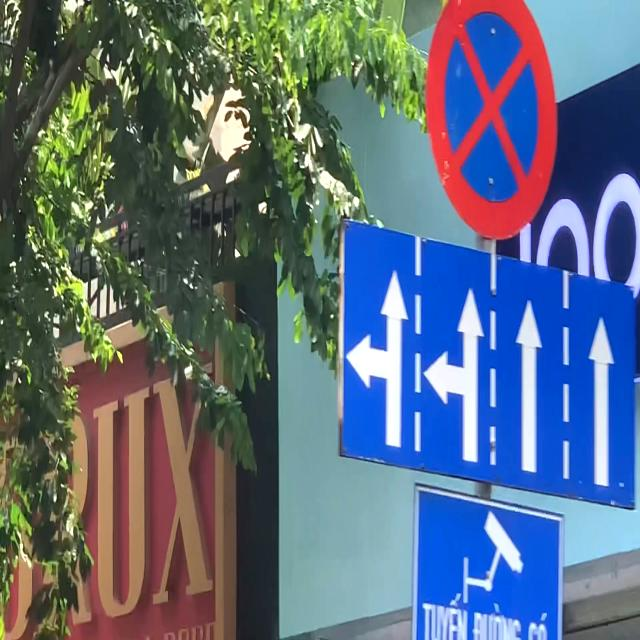P.130: (426, 0, 558, 240)
